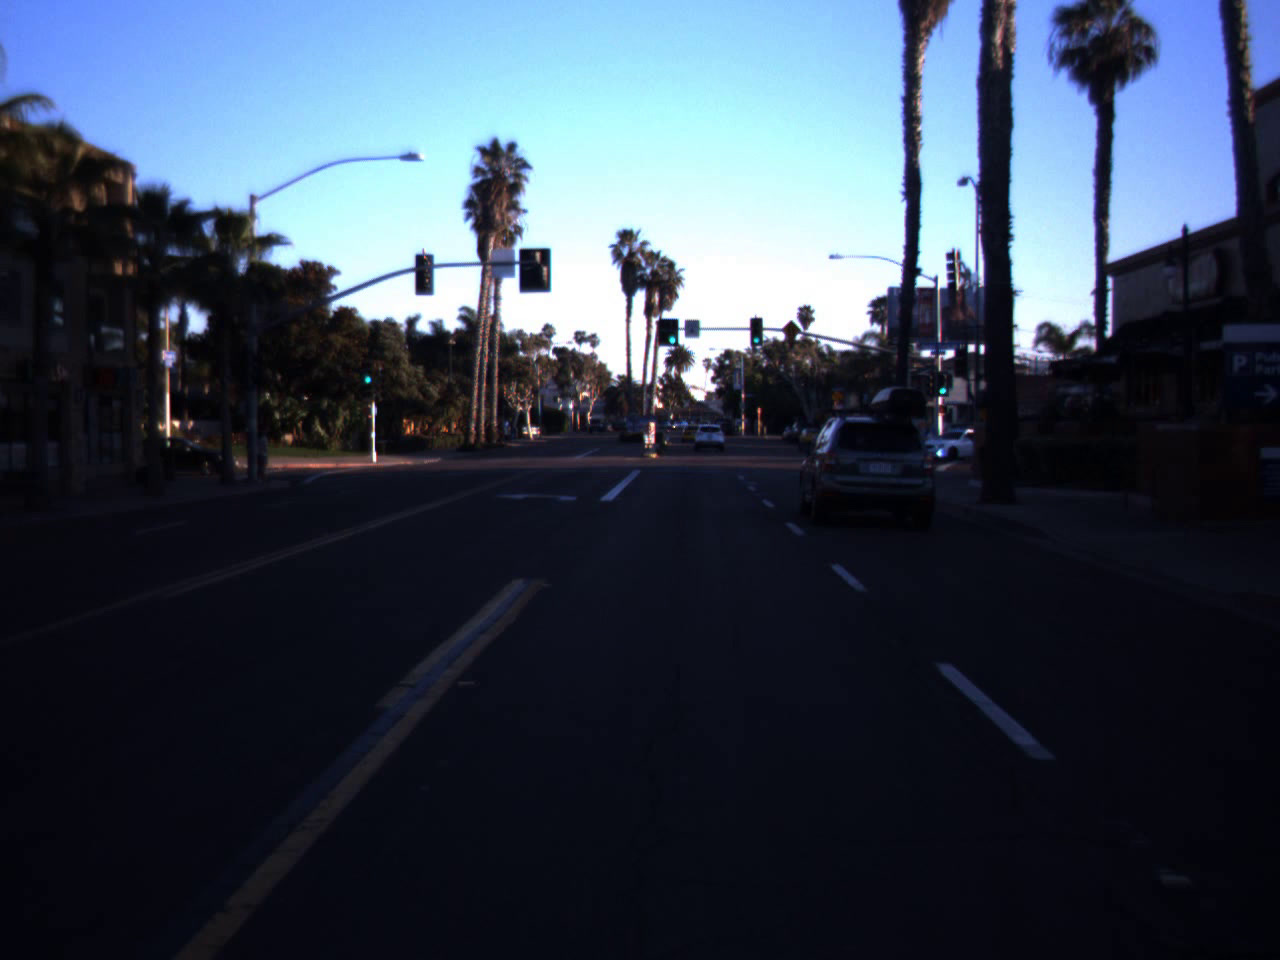go: (934, 367, 952, 397), (665, 320, 680, 345), (749, 320, 764, 345), (362, 364, 374, 384)
